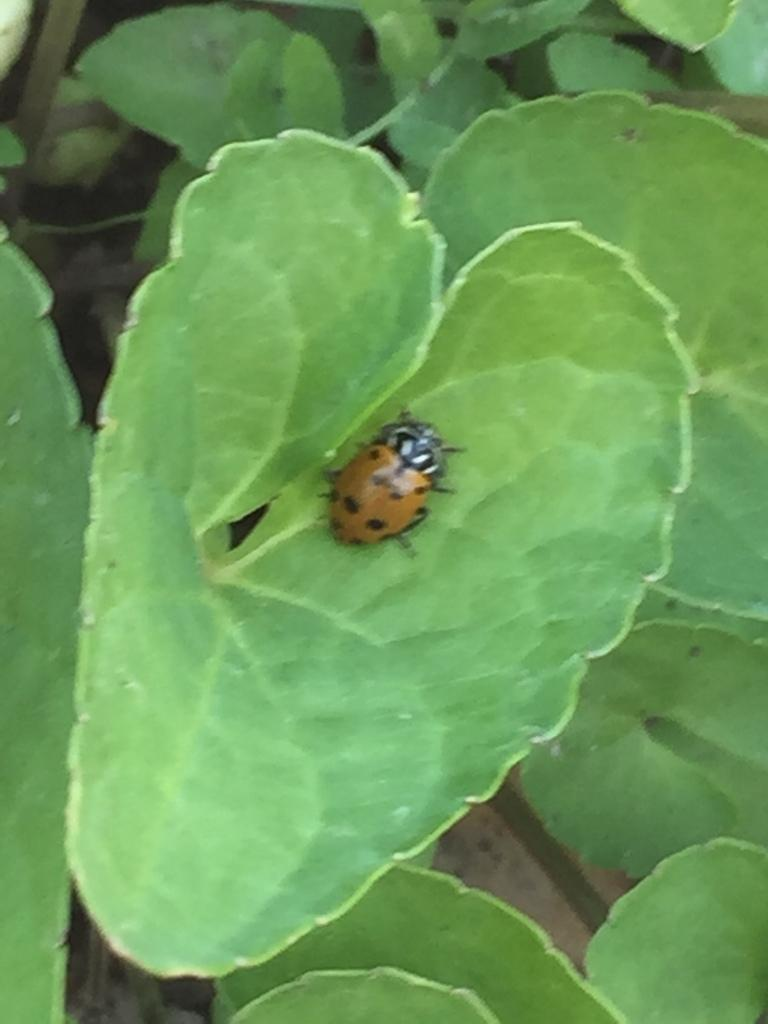ladybug: (316, 401, 469, 559)
